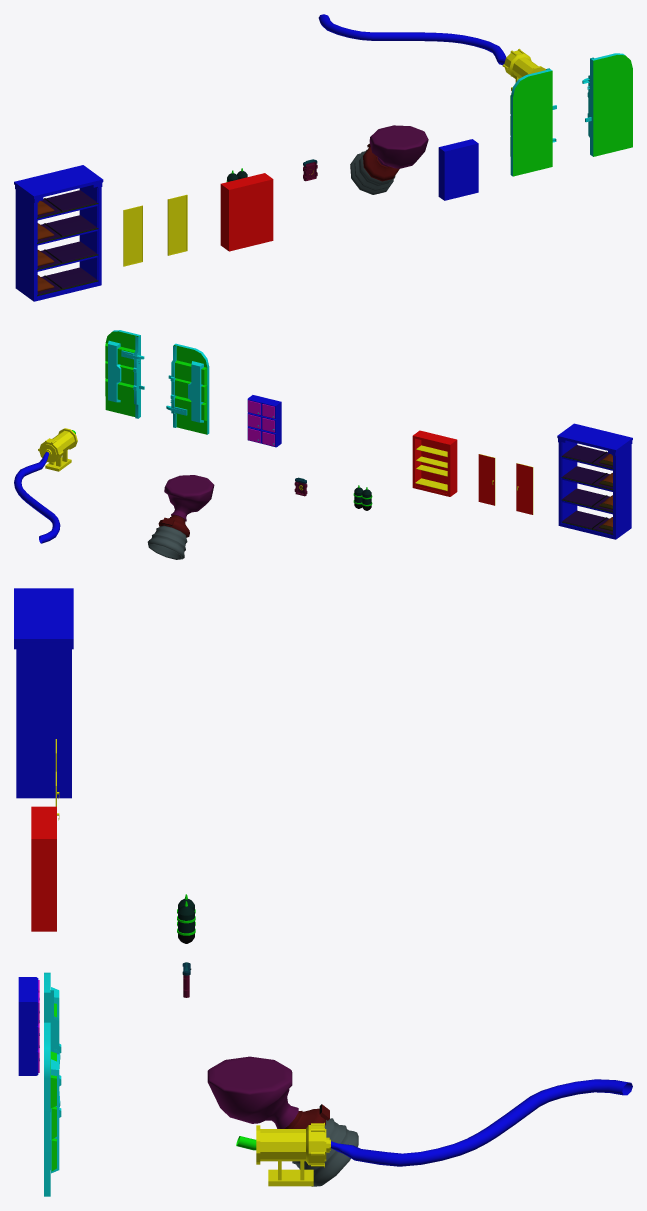
The model's file is LowDetailProps.fbx.
The picture shows the model from 3 angles, top to bottom: view 1: azimuth 30°, elevation 25°; view 2: azimuth 150°, elevation 25°; view 3: azimuth 270°, elevation 25°; orthographic projection. The views are drawn at different scales.
Visible parts, largest first — view 1: Bunkbed, Door_Left, Door_Right, Cabinet, Thruster, Motor, Drawer, Door_1, Door_2; view 2: Bunkbed, Door_Right, Door_Left, Thruster, Cabinet, Motor, Drawer, Door_1, Door_2, Oxygen_Tanks; view 3: Bunkbed, Motor, Thruster, Cabinet, Door_Left, Drawer, Door_Right.
Boxes of the visible parts, x1,y1,x2,y2 form: Bunkbed: [14, 165, 103, 301]; Door_Left: [582, 53, 632, 156]; Door_Right: [510, 68, 556, 176]; Cabinet: [220, 173, 273, 251]; Thruster: [350, 125, 428, 194]; Motor: [318, 14, 545, 90]; Drawer: [438, 139, 478, 200]; Door_1: [167, 194, 187, 255]; Door_2: [123, 205, 142, 266]; Bunkbed: [557, 423, 632, 539]; Door_Right: [166, 343, 209, 434]; Door_Left: [105, 330, 144, 418]; Thruster: [147, 475, 214, 559]; Cabinet: [412, 430, 457, 496]; Motor: [14, 428, 77, 543]; Drawer: [247, 395, 281, 447]; Door_1: [478, 454, 495, 505]; Door_2: [516, 463, 533, 514]; Oxygen_Tanks: [353, 485, 372, 510]; Bunkbed: [14, 588, 73, 798]; Motor: [236, 1079, 632, 1186]; Thruster: [207, 1056, 358, 1186]; Cabinet: [31, 806, 56, 931]; Door_Left: [44, 1022, 61, 1196]; Drawer: [18, 977, 39, 1075]; Door_Right: [44, 972, 61, 1106].
Size of the model in its own units: 17.91 by 5 by 10.47.
